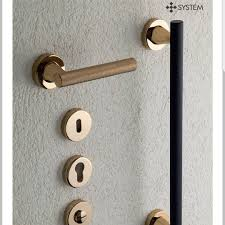door: (15, 9, 214, 225)
handle: (160, 14, 192, 225), (46, 47, 142, 99)
